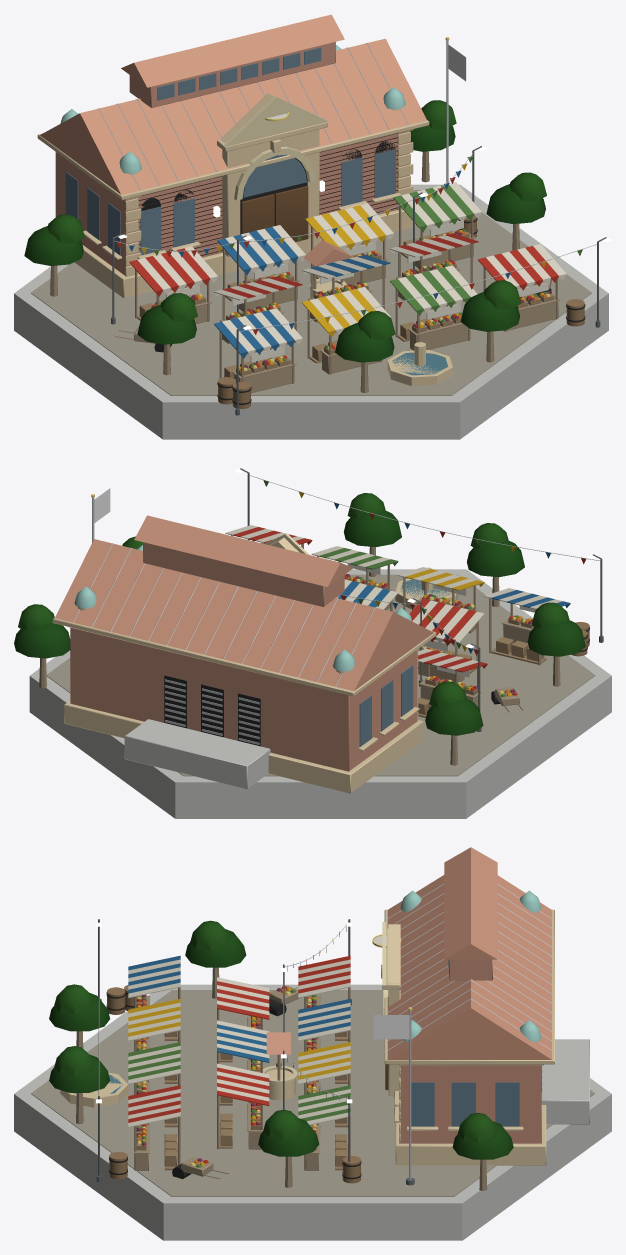
Rendered from market_arab.glb.
3 renders of one model, top to bottom at view 1: azimuth 30°, elevation 25°; view 2: azimuth 150°, elevation 25°; view 3: azimuth 270°, elevation 25°, orthographic. The views are drawn at different scales.
Parts seen in each view (by area): view 1: roof_tile, wall_concrete, paint, pavers, stone, wood, leaf, brick, glass, dark, metal, steel_dark (+1 smaller); view 2: roof_tile, wall_concrete, brick, pavers, leaf, paint, stone, wood, metal, dark, glass, copper (+1 smaller); view 3: pavers, wall_concrete, roof_tile, paint, leaf, wood, stone, brick, metal, glass, copper, steel_dark (+2 smaller).
Part boxes in pixels (x1,y1,x2,y2): roof_tile: [40, 14, 426, 266]; wall_concrete: [14, 184, 608, 439]; paint: [116, 113, 582, 371]; pavers: [31, 190, 591, 395]; stone: [37, 93, 452, 386]; wood: [50, 151, 584, 408]; leaf: [24, 100, 546, 362]; brick: [55, 42, 409, 275]; glass: [65, 47, 448, 375]; dark: [125, 133, 585, 404]; metal: [98, 40, 597, 331]; steel_dark: [111, 146, 606, 415]; roof_tile: [55, 515, 433, 690]; wall_concrete: [29, 569, 611, 818]; brick: [70, 542, 417, 771]; pavers: [46, 574, 595, 776]; leaf: [14, 493, 585, 735]; paint: [225, 480, 586, 696]; stone: [52, 533, 458, 793]; wood: [39, 535, 589, 765]; metal: [73, 475, 599, 744]; dark: [164, 627, 589, 746]; glass: [359, 579, 452, 746]; copper: [74, 545, 412, 671]; pavers: [31, 990, 594, 1196]; wall_concrete: [14, 984, 611, 1240]; roof_tile: [266, 847, 551, 1059]; paint: [128, 924, 386, 1167]; leaf: [49, 920, 513, 1159]; wood: [76, 967, 487, 1190]; stone: [60, 909, 554, 1165]; brick: [400, 959, 541, 1143]; metal: [98, 884, 552, 1179]; glass: [74, 959, 519, 1126]; copper: [400, 890, 541, 1041]; steel_dark: [96, 919, 414, 1185].
Size of the model in its own units: 21.41 by 10.7 by 24.6.
